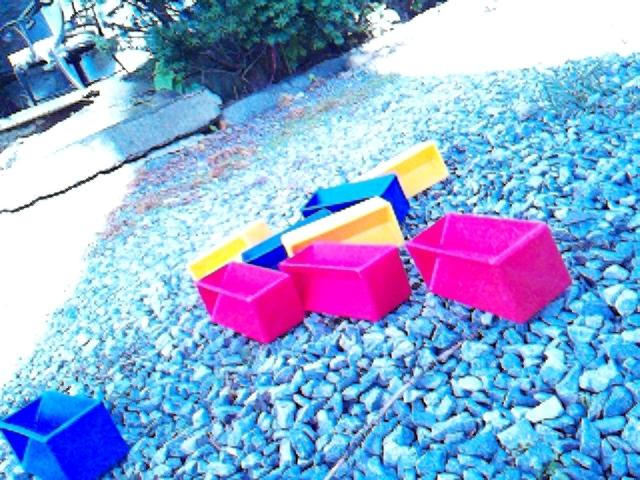blue: (1, 389, 131, 480), (241, 204, 333, 269), (301, 172, 411, 225)
red: (406, 211, 573, 325), (278, 241, 412, 323), (195, 260, 306, 345)
yellow: (281, 196, 405, 259), (351, 140, 450, 199), (187, 219, 273, 282)
